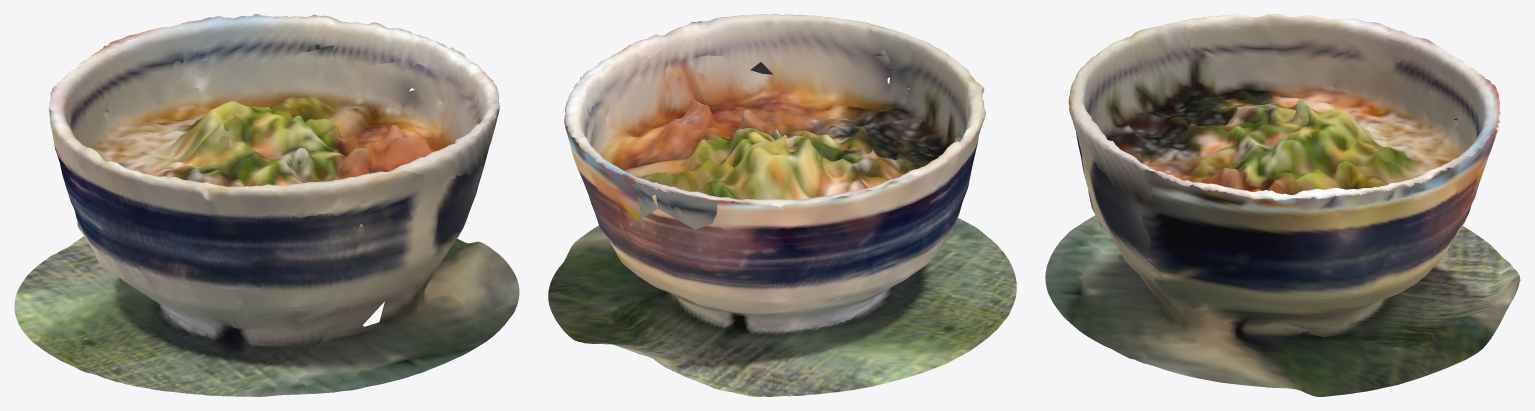
Rendered from mi-sup.glb.
3 views of the same model, side by side, from view 1: azimuth 30°, elevation 25°; view 2: azimuth 150°, elevation 25°; view 3: azimuth 270°, elevation 25° (orthographic). The views are drawn at different scales.
Parts seen in each view (by area): view 1: Object_2; view 2: Object_2; view 3: Object_2.
Part boxes in pixels (x1,y1,x2,y2): Object_2: [14, 14, 519, 396]; Object_2: [548, 14, 1016, 396]; Object_2: [1045, 14, 1520, 396].
Bounding box in the file's own units: 0.2013 × 0.0948 × 0.1967.
Materials: 1 (1 with a texture image).
